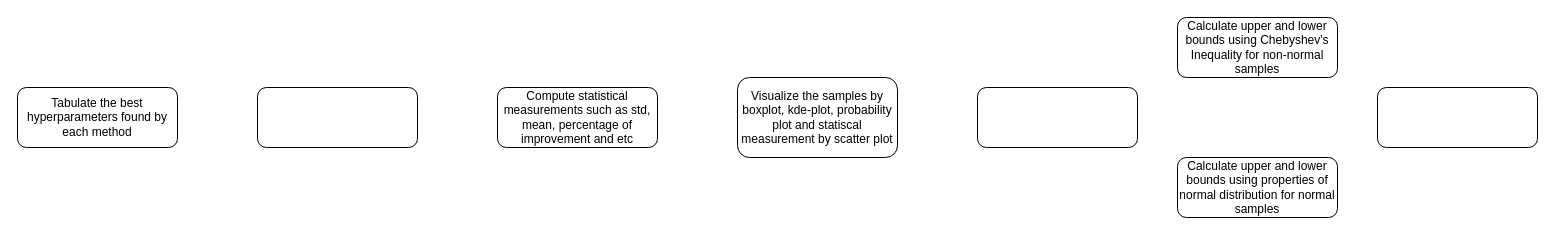
Image size: 1555x235. Some labels were removed from this diagram. The centre of each missing label's shape, as x and y in pixels:
"Perform normality tests" goes at (1057,117).
"Run the model with each set of the best hyperparameters for 300 times" goes at (337,117).
"Visualize the bounds, compare and analyze" goes at (1457,117).
